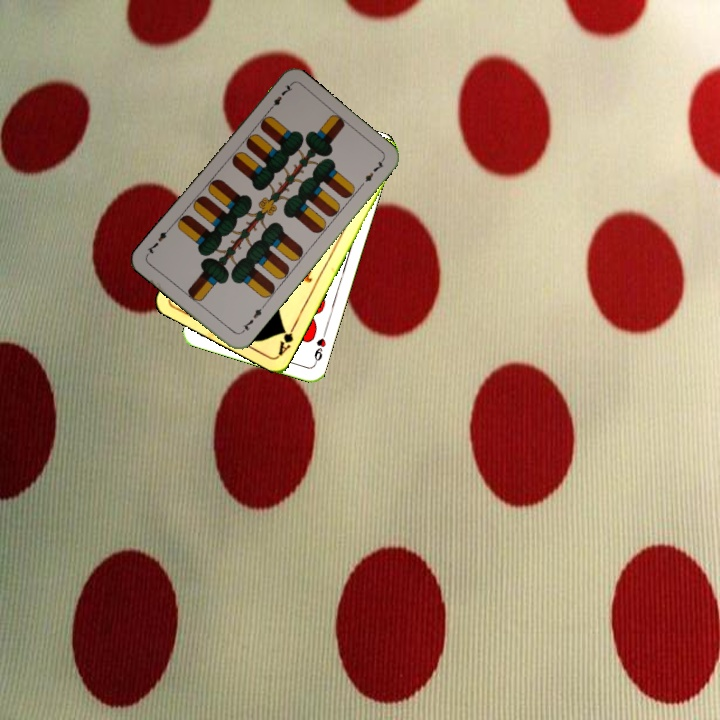E7: (236, 302, 267, 336), (264, 80, 295, 114)
GA: (274, 320, 299, 358)
H9: (310, 328, 329, 367)
